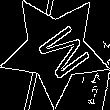M_SW: (23, 16, 88, 83)
